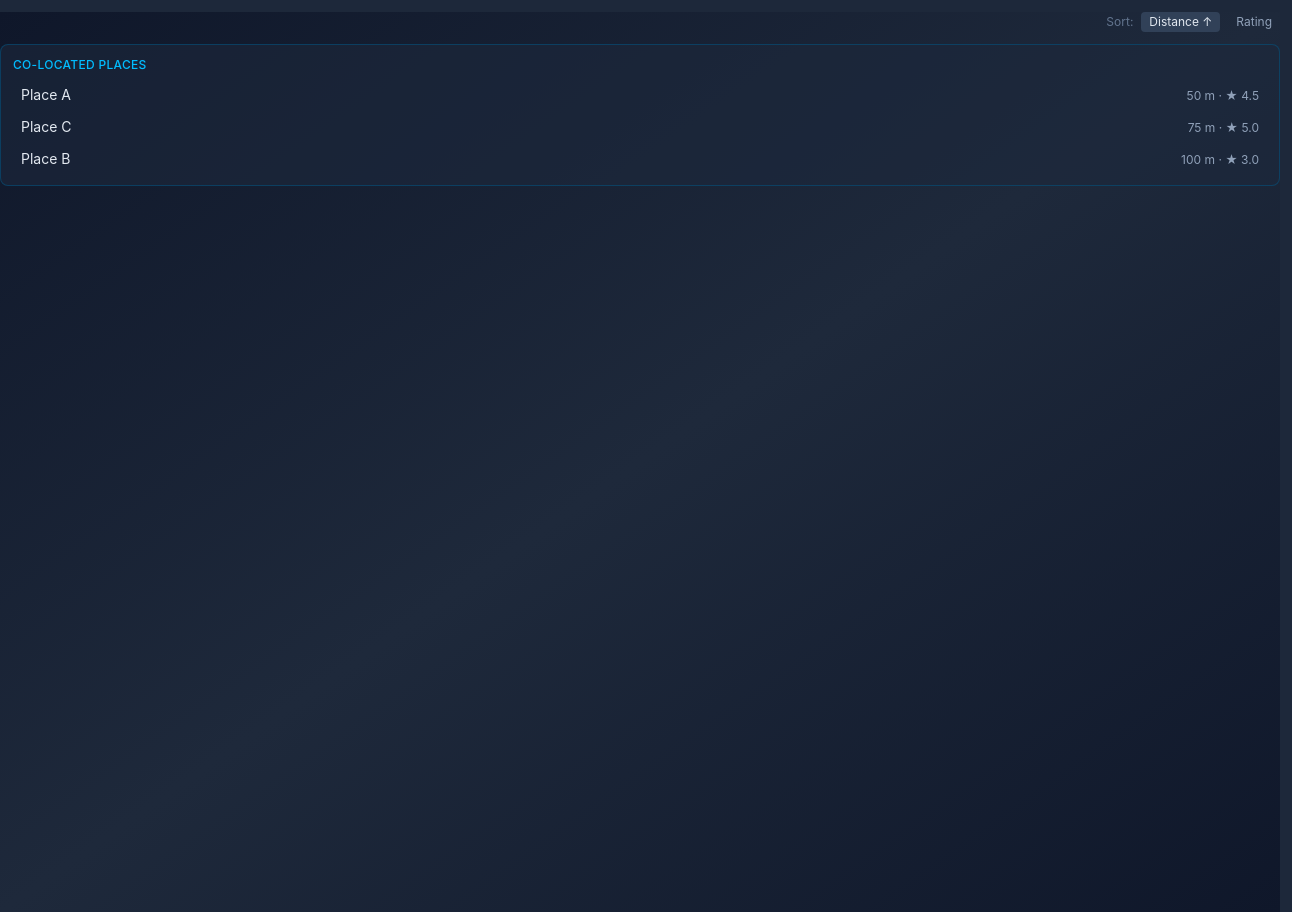
Test case: NearbyList sort toggle › flips distance to descending when clicked again
Click the button "Distance ↑".
click(1181, 22)  # box [1141,12,1220,32]
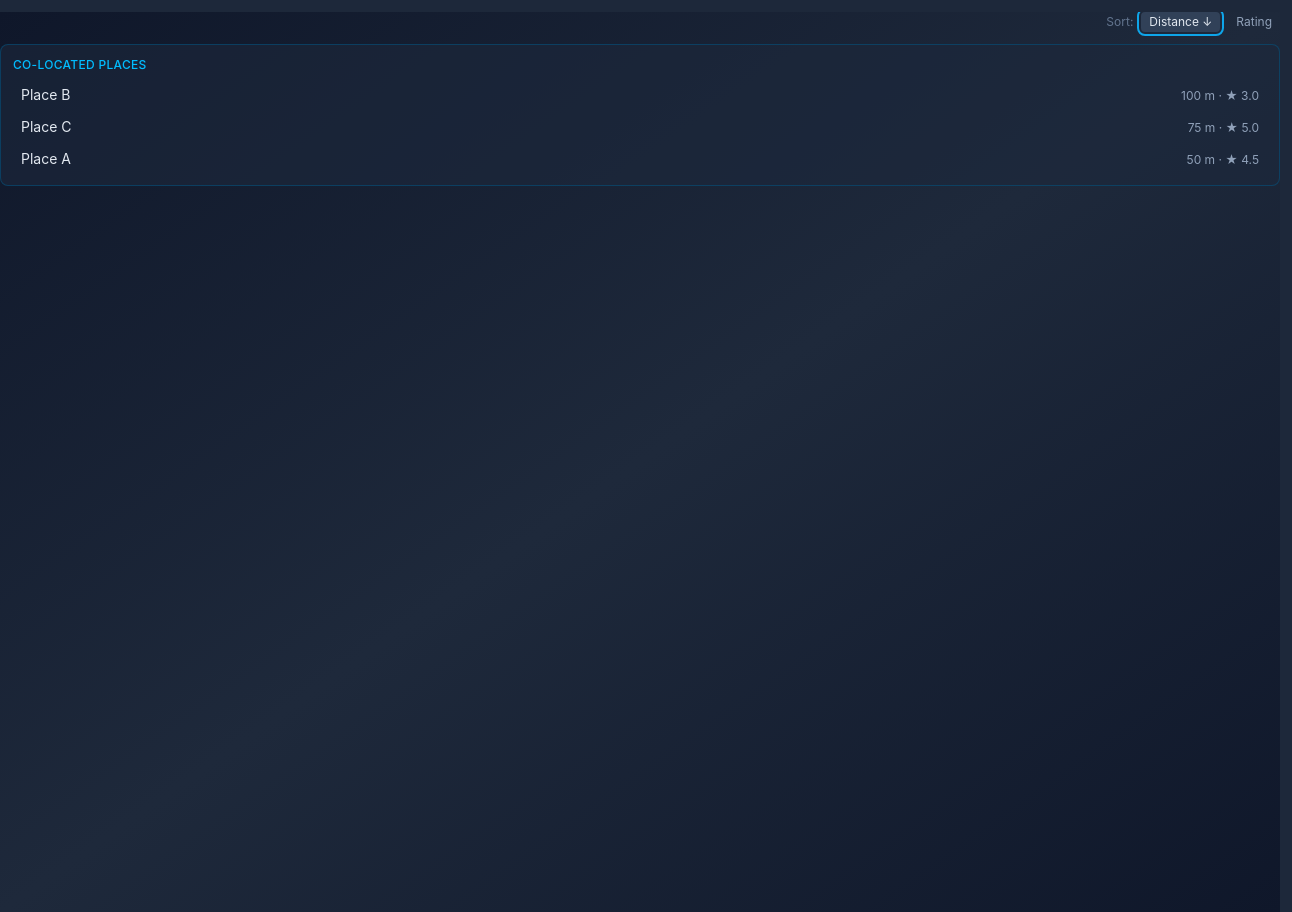
Expected: the list item "Place B 100 m · ★ 3.0" is shown, [13,81,1267,109]
Expected: the button "Distance ↓" is shown, [1141,12,1220,32]
